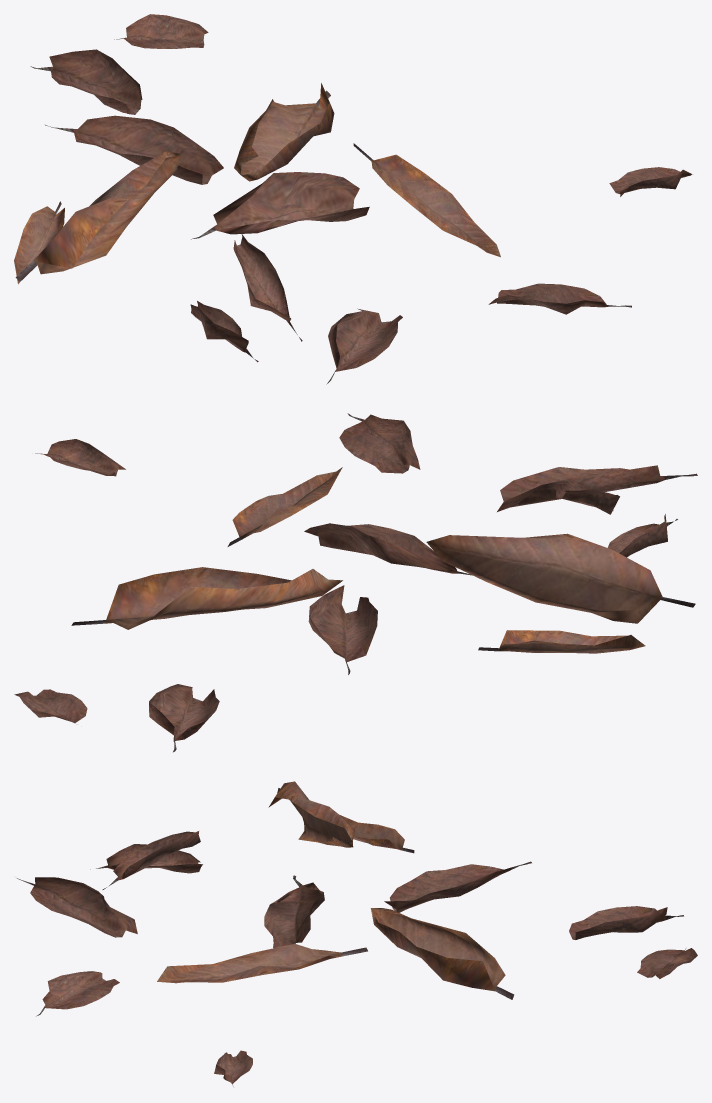
The model's file is leaves_01_lod1.gltf.
3 renders of one model, top to bottom at view 1: azimuth 30°, elevation 25°; view 2: azimuth 150°, elevation 25°; view 3: azimuth 270°, elevation 25°, orthographic. The views are drawn at different scales.
Parts seen in each view (by area): view 1: Leaves 01; view 2: Leaves 01; view 3: Leaves 01.
Part boxes in pixels (left/top/right/bottom): Leaves 01: left=14, top=14, right=692, bottom=384; Leaves 01: left=14, top=413, right=697, bottom=752; Leaves 01: left=17, top=781, right=697, bottom=1086.
Size of the model in its own units: 0.3723 by 0.0504 by 0.398.
Materials: 1 (1 with a texture image).
